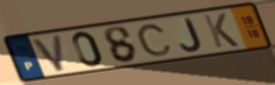0: (71, 30, 104, 68)
8: (102, 25, 140, 64)
C: (135, 23, 174, 58)
J: (178, 17, 204, 54)
K: (201, 12, 242, 50)
V: (29, 33, 67, 74)
